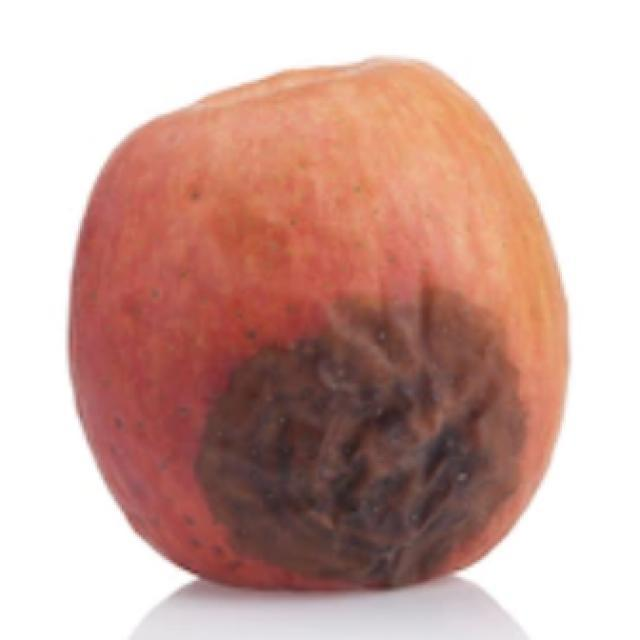Rotten: (64, 73, 584, 582)
